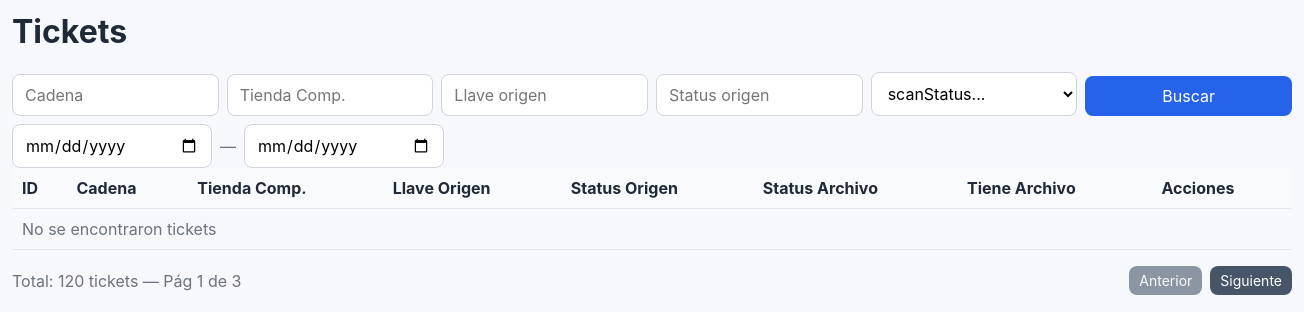
Scenario: TicketsPage › resets to page 1 on search
Expected: the text "Total: 120 tickets — Pág 1 de 3" is shown, [12,271,241,291]
Click the button "Siguiente" at (1251, 281), box [1210,266,1292,295]
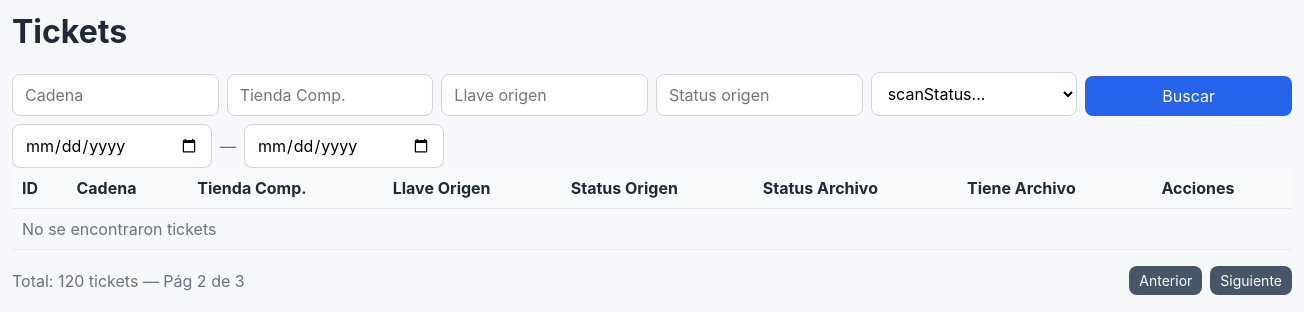
Now the text "Total: 120 tickets — Pág 2 de 3" is shown, box [12,271,245,291]
Type "WMT" into the field with placeholder "Cadena" at (115, 95), box [12,74,219,116]
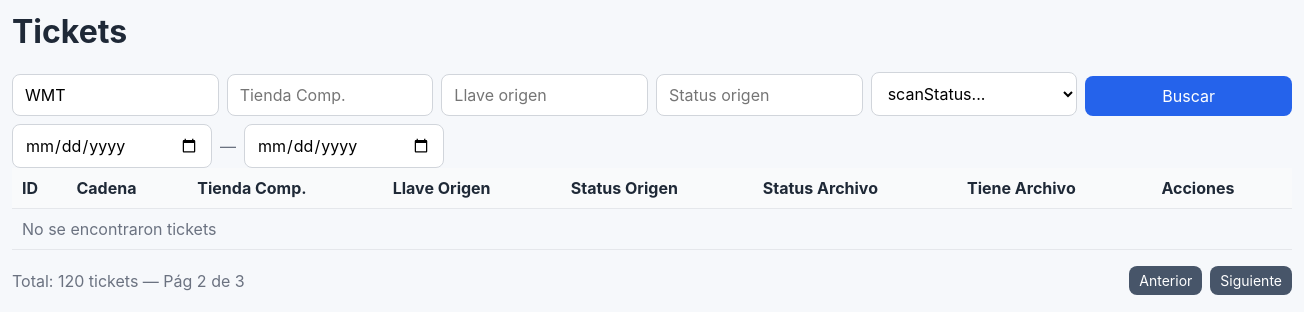
Click the button "Buscar" at (1189, 96), box [1085,76,1292,116]
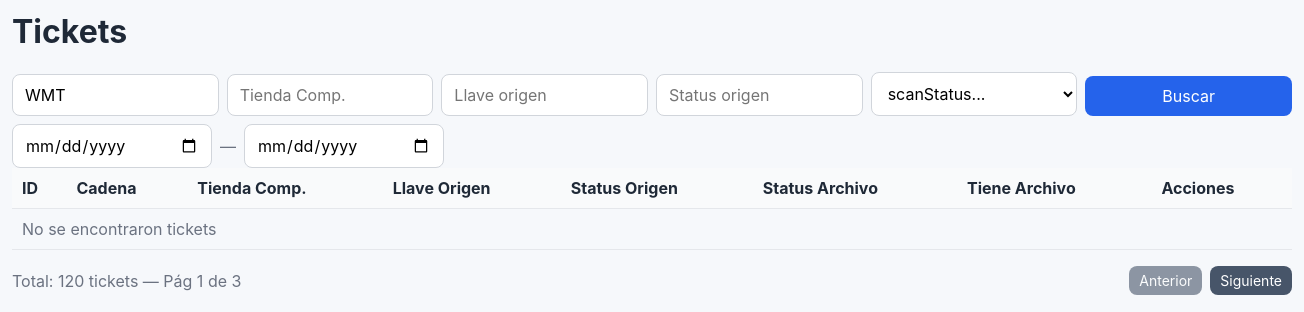
Now the text "Total: 120 tickets — Pág 1 de 3" is shown, box [12,271,241,291]
